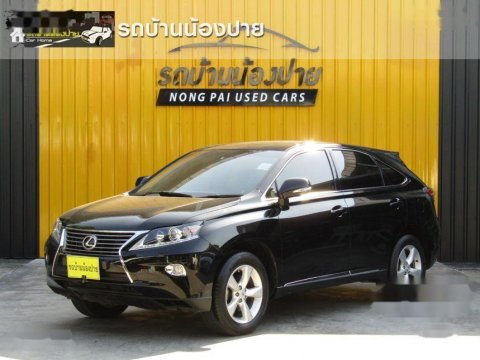pickup: (42, 139, 442, 338)
